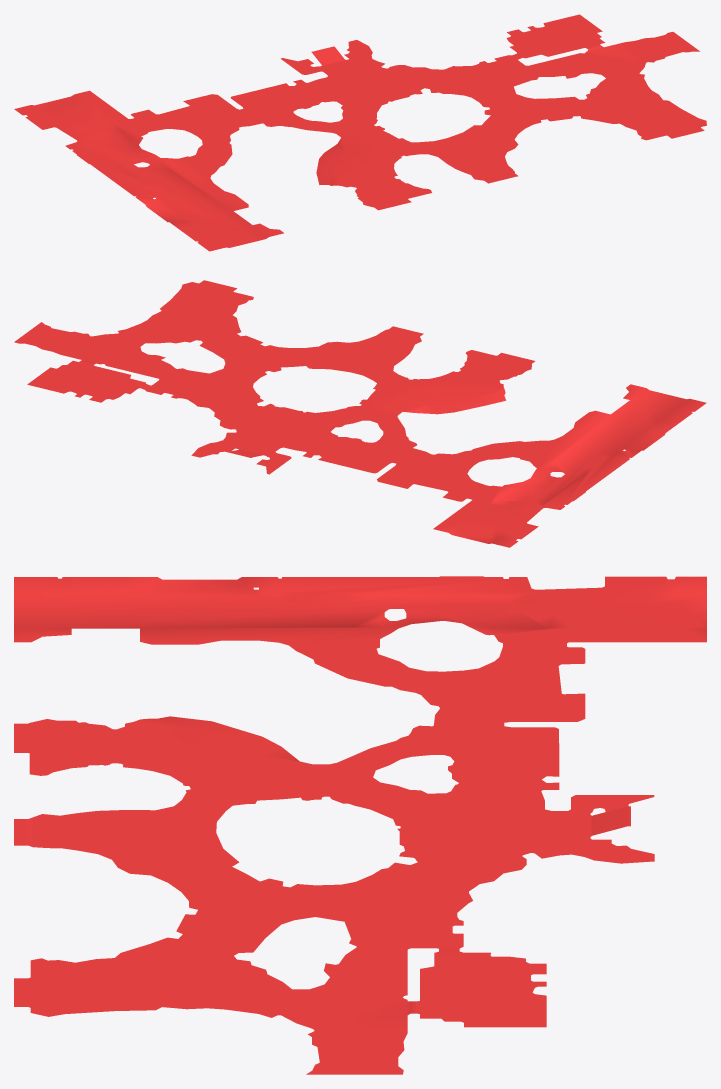
File: Navi_Forest.fbx
3 renders of one model, top to bottom at view 1: azimuth 30°, elevation 25°; view 2: azimuth 150°, elevation 25°; view 3: azimuth 270°, elevation 25°, orthographic. The views are drawn at different scales.
Parts seen in each view (by area): view 1: Forest; view 2: Forest; view 3: Forest.
Boxes of the visible parts, bbox=[...] form: Forest: bbox=[14, 14, 706, 251]; Forest: bbox=[14, 280, 706, 547]; Forest: bbox=[14, 576, 706, 1074].
Bounding box in the file's own units: 90.14 × 1.3 × 53.
